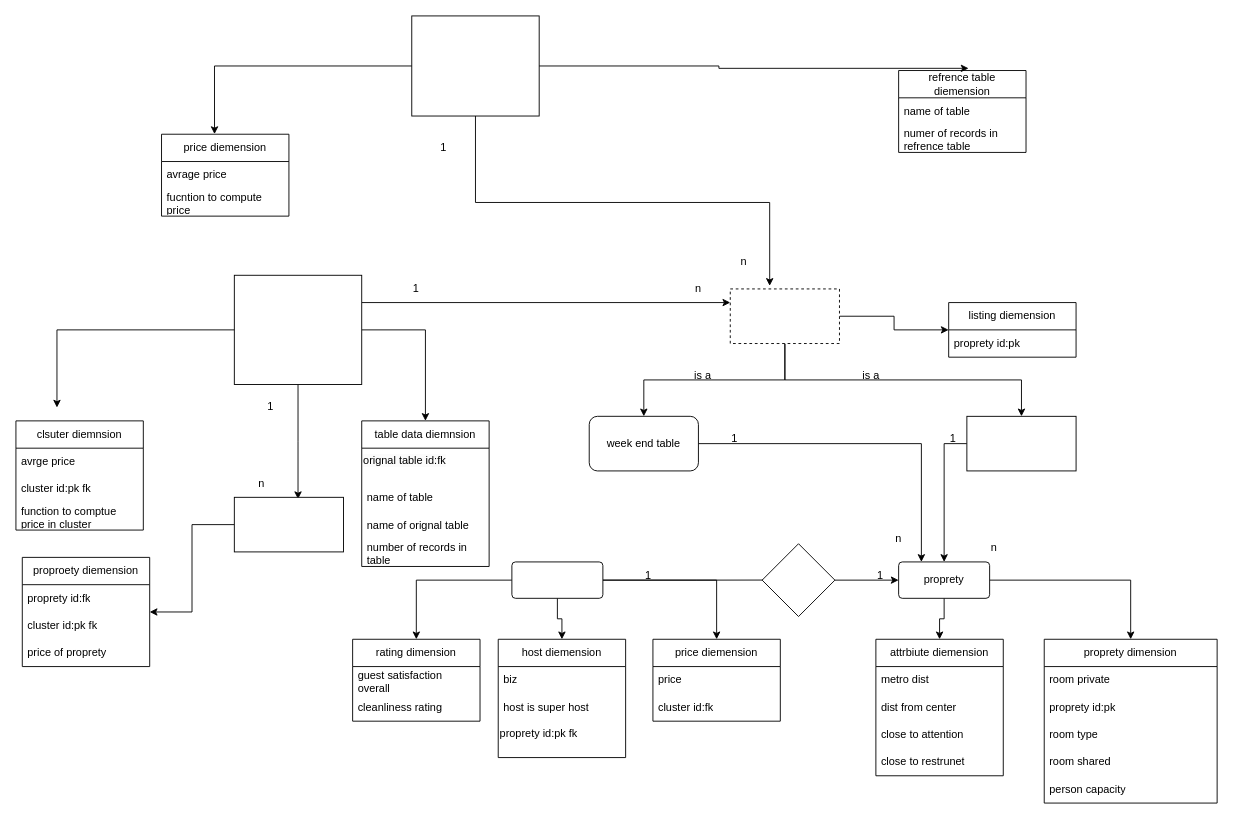
This 1233x819 diagram has some shape labels left out. The centre of each missing label's shape, as x and y in pixels:
"cluster table" goes at [288,524].
"clusters table" goes at [297,329].
"listing table" goes at [784,316].
"main price table" goes at [475,65].
"of" goes at [798,580].
"renting data" goes at [557,579].
"week day table" goes at [1021,443].
